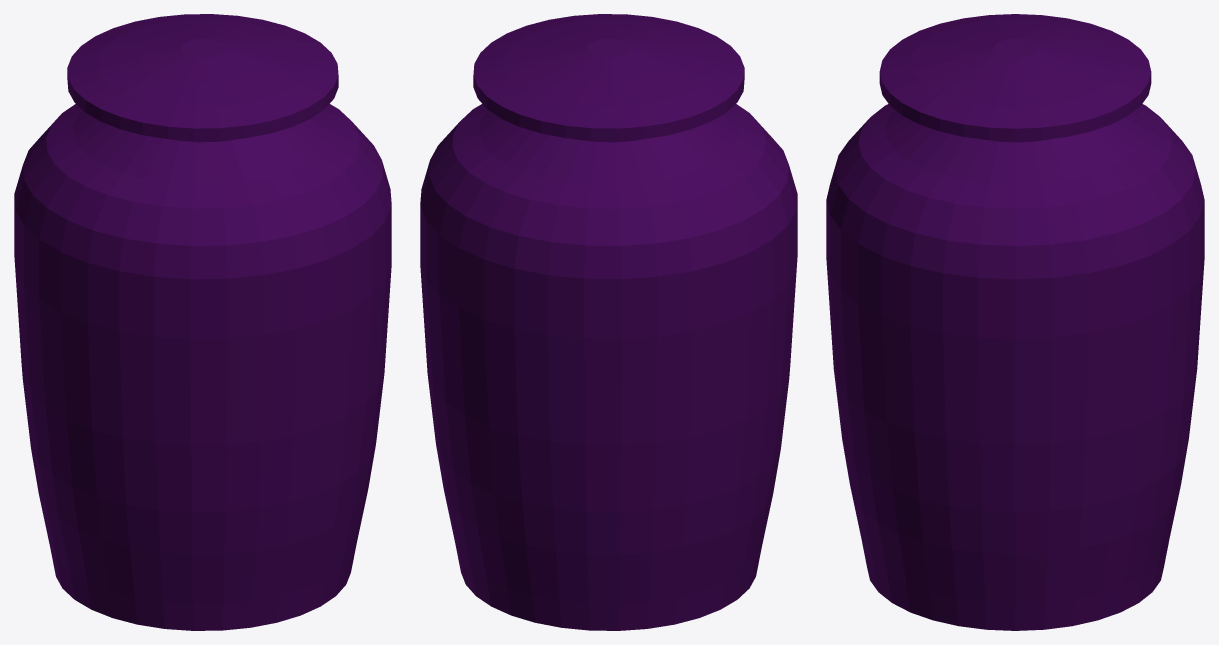
File: purpleurn.fbx
3 renders of one model, left to right at view 1: azimuth 30°, elevation 25°; view 2: azimuth 150°, elevation 25°; view 3: azimuth 270°, elevation 25°, orthographic.
Visible parts, largest first — view 1: Circle; view 2: Circle; view 3: Circle.
Boxes of the visible parts, box(x1,y1,x2,y2) form: Circle: box(14, 14, 391, 630); Circle: box(420, 14, 797, 630); Circle: box(826, 14, 1204, 630).
Bounding box in the file's own units: 129 × 196 × 129.
